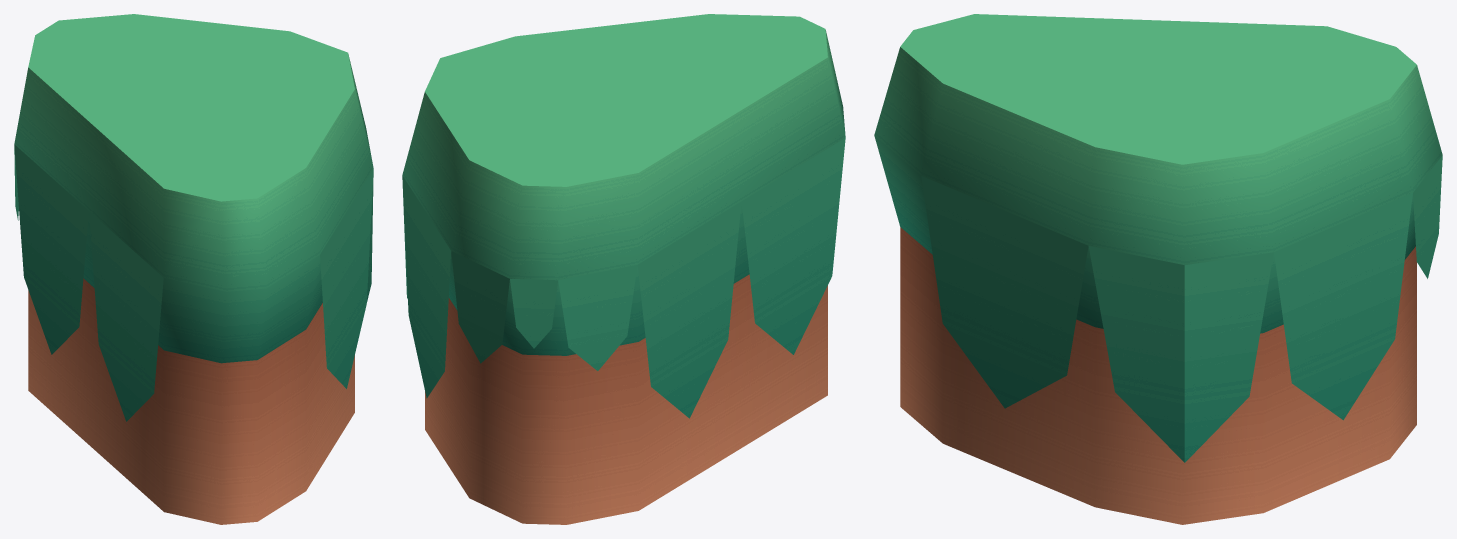
File: block-grass-corner-overhang-low.004_lev2.glb
The picture shows the model from 3 angles, left to right: view 1: azimuth 30°, elevation 25°; view 2: azimuth 150°, elevation 25°; view 3: azimuth 270°, elevation 25°; orthographic projection. The views are drawn at different scales.
Parts seen in each view (by area): view 1: block-grass-corner-overhang-low.004_lev2; view 2: block-grass-corner-overhang-low.004_lev2; view 3: block-grass-corner-overhang-low.004_lev2.
Boxes of the visible parts, x1,y1,x2,y2 form: block-grass-corner-overhang-low.004_lev2: [14, 14, 373, 524]; block-grass-corner-overhang-low.004_lev2: [402, 14, 845, 524]; block-grass-corner-overhang-low.004_lev2: [874, 14, 1442, 524].
Bounding box in the file's own units: 1.72 × 1.74 × 2.49.
Materials: 1 (1 with a texture image).
